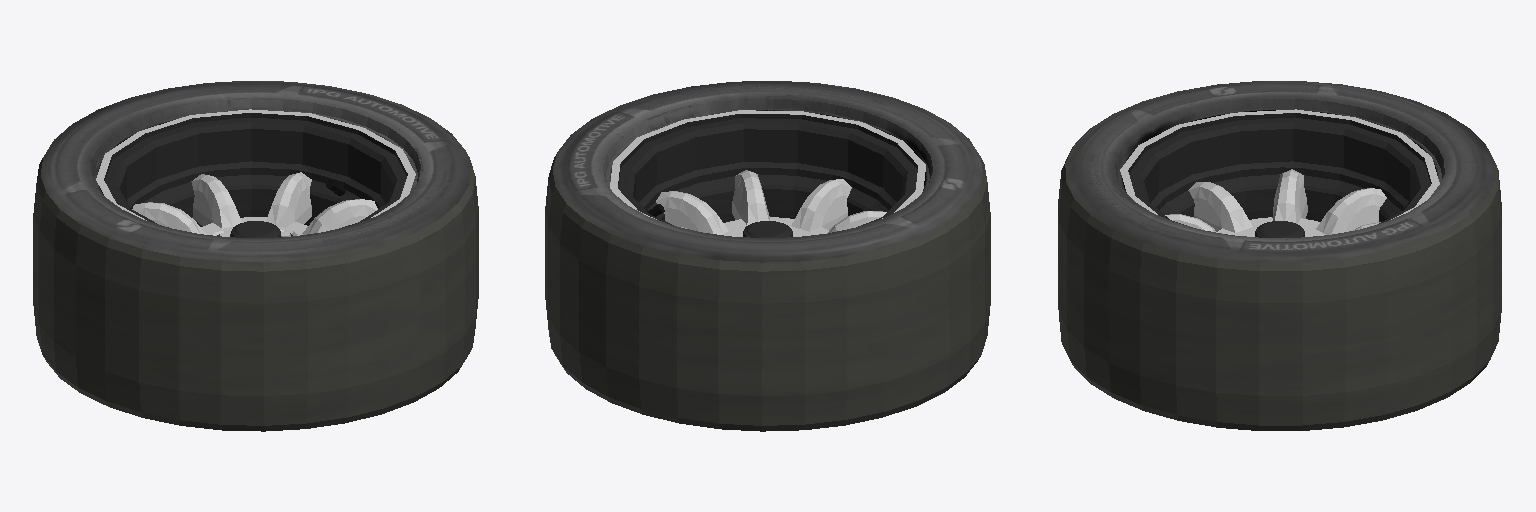
The picture shows the model from 3 angles: view 1: azimuth 30°, elevation 25°; view 2: azimuth 150°, elevation 25°; view 3: azimuth 270°, elevation 25°; orthographic projection.
Visible parts, largest first — view 1: Wheel_fl.002_Plane.008; view 2: Wheel_fl.002_Plane.008; view 3: Wheel_fl.002_Plane.008.
Part boxes in pixels (x1,y1,x2,y2): Wheel_fl.002_Plane.008: (33,81,478,431); Wheel_fl.002_Plane.008: (545,81,990,431); Wheel_fl.002_Plane.008: (1058,81,1501,430).
Bounding box in the file's own units: 0.5133 × 0.2288 × 0.5133.
5 materials, 1 textured.